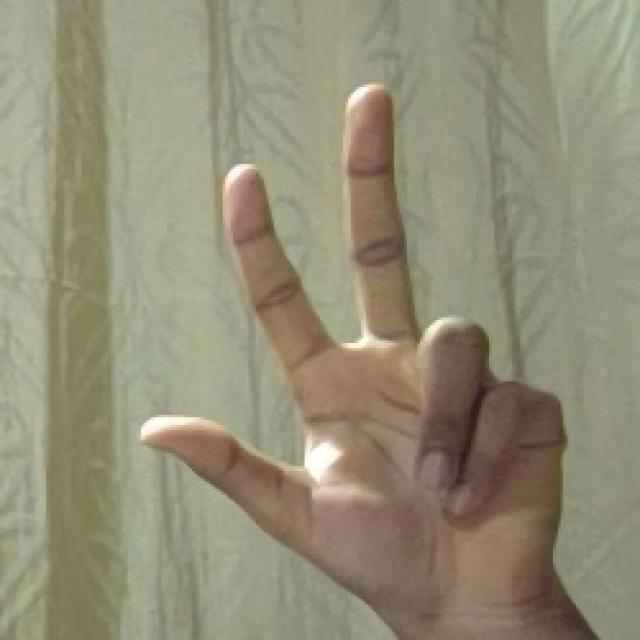Numeric-3: (139, 74, 569, 604)
